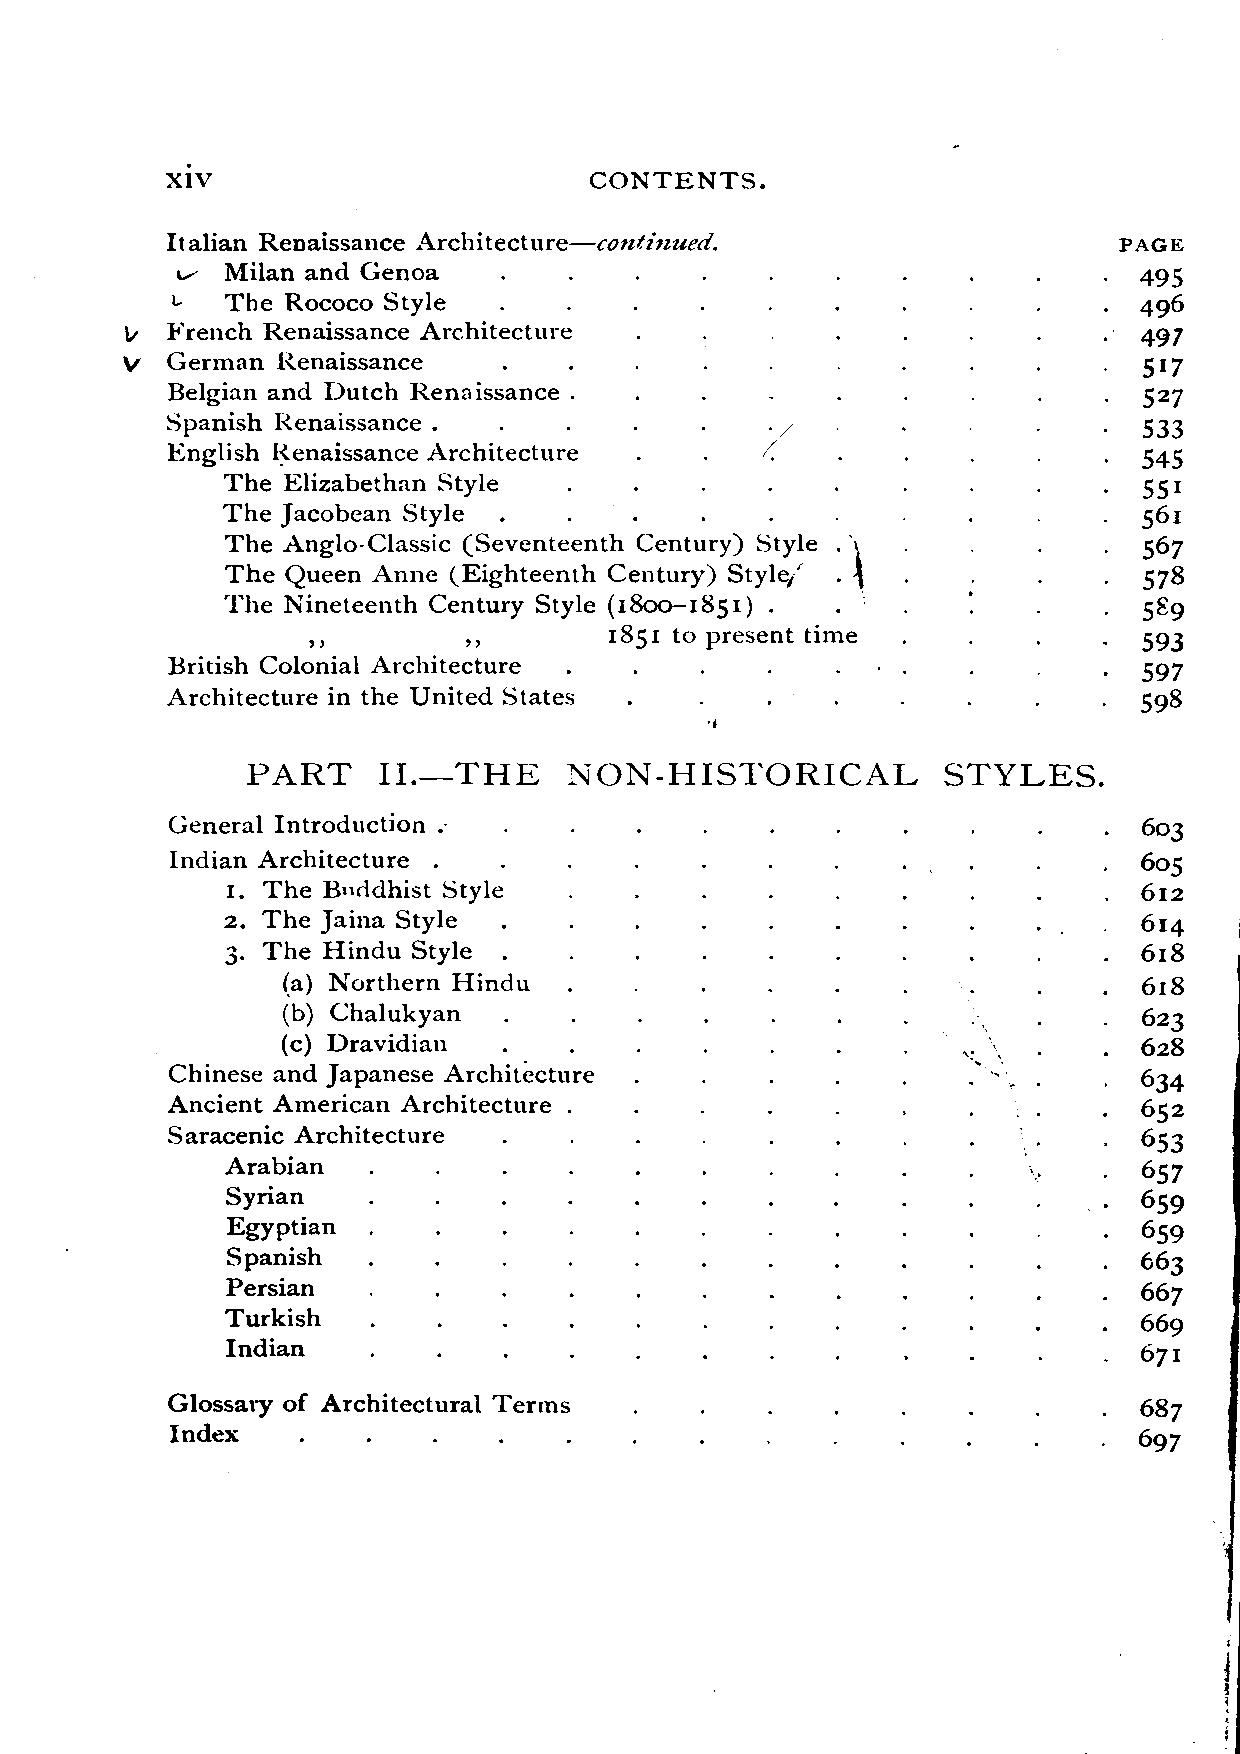TOC_chapter: (243, 757, 1096, 792), (164, 219, 721, 258), (217, 529, 824, 556), (221, 592, 754, 621), (220, 560, 789, 586), (298, 625, 859, 652), (157, 1382, 572, 1418), (162, 1057, 599, 1087), (165, 439, 580, 464), (162, 684, 577, 710), (164, 319, 576, 345), (162, 378, 560, 404), (162, 652, 522, 676), (164, 1092, 554, 1114), (217, 467, 501, 497), (223, 938, 475, 968), (162, 811, 425, 837), (164, 1121, 454, 1145), (217, 286, 450, 315), (280, 972, 535, 998), (162, 346, 429, 372), (225, 879, 507, 903), (224, 909, 455, 937), (217, 499, 468, 525), (164, 845, 412, 871), (160, 408, 423, 431), (220, 260, 446, 285), (280, 998, 464, 1028), (276, 1031, 450, 1057), (221, 1213, 341, 1241), (224, 1243, 323, 1271), (220, 1304, 323, 1331), (223, 1150, 326, 1176), (219, 1184, 310, 1210), (225, 1331, 309, 1359), (166, 1420, 243, 1449), (221, 1274, 319, 1296)
TOC_pagenumber: (1141, 809, 1186, 845), (1137, 1064, 1188, 1095), (1137, 909, 1186, 939), (1135, 1394, 1184, 1425), (1139, 1247, 1185, 1279), (1134, 1425, 1181, 1456), (1139, 845, 1184, 878), (1139, 1002, 1185, 1033), (1138, 879, 1190, 906), (1138, 1186, 1186, 1215), (1138, 505, 1190, 530), (1141, 564, 1190, 590), (1139, 939, 1189, 966), (1137, 1032, 1186, 1059), (1138, 1279, 1185, 1307), (1135, 1312, 1184, 1339), (1141, 1216, 1186, 1244), (1141, 1157, 1184, 1186), (1141, 535, 1188, 562), (1139, 972, 1186, 998), (1139, 293, 1185, 319), (1141, 1096, 1184, 1125), (1141, 1125, 1184, 1153), (1138, 476, 1188, 501), (1139, 596, 1185, 621), (1137, 1342, 1182, 1368), (1139, 352, 1182, 378), (1139, 446, 1184, 471), (1141, 687, 1184, 713), (1139, 416, 1184, 440), (1141, 325, 1184, 348), (1143, 385, 1184, 409), (1141, 632, 1184, 654), (1137, 268, 1188, 286)
chapter: (582, 162, 765, 199), (1139, 659, 1182, 682)
